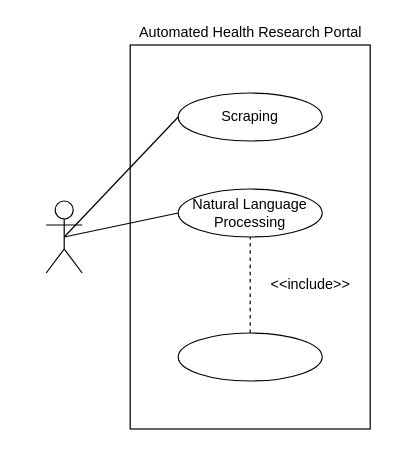
The diagram is 409 pixels wide and 450 high, and some of its shapes have lost their labels. Here are the shapes that lost their labels. From the top down, the box of each, then its label:
(45, 200, 82, 273): eRepositories
(177, 332, 322, 381): Categorization
